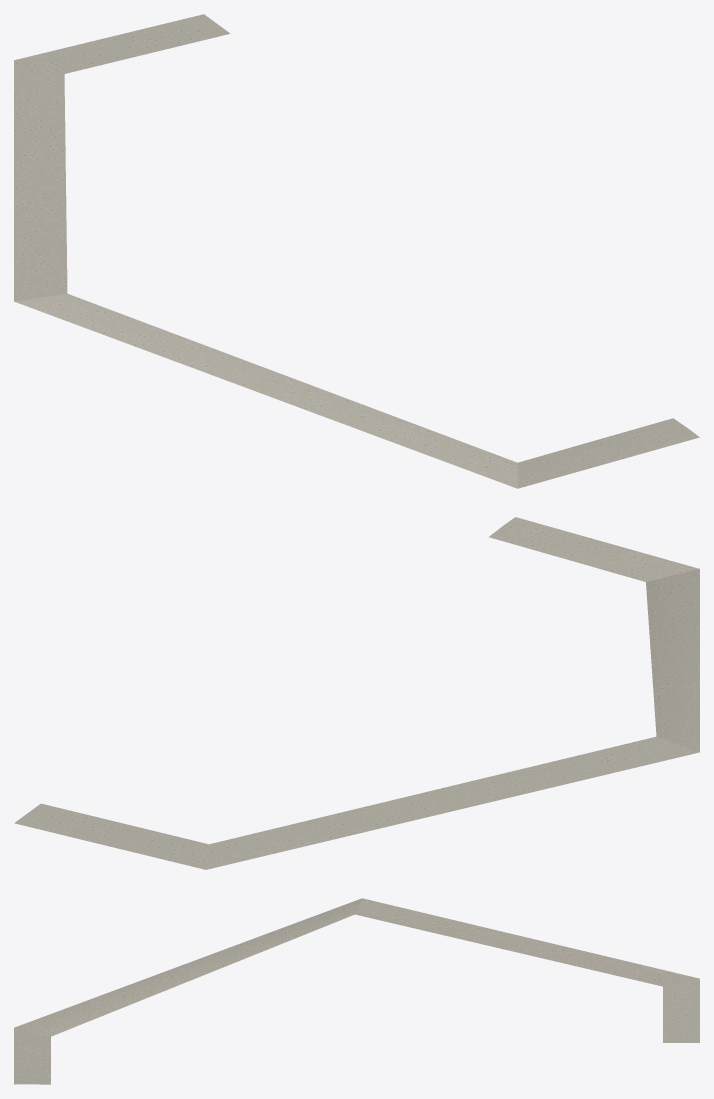
The model's file is kd_stage_135fe0_0_26_bounded.glb.
3 views of the same model, one above another, from view 1: azimuth 30°, elevation 25°; view 2: azimuth 150°, elevation 25°; view 3: azimuth 270°, elevation 25° (orthographic). The views are drawn at different scales.
Visible parts, largest first — view 1: kd_stage_135fe0_0_26_bounded; view 2: kd_stage_135fe0_0_26_bounded; view 3: kd_stage_135fe0_0_26_bounded.
Boxes of the visible parts, bbox=[...] form: kd_stage_135fe0_0_26_bounded: bbox=[14, 14, 699, 488]; kd_stage_135fe0_0_26_bounded: bbox=[14, 517, 699, 869]; kd_stage_135fe0_0_26_bounded: bbox=[14, 898, 699, 1084].
Bounding box in the file's own units: 9.37 × 1.39 × 18.55.
1 material, 1 textured.
